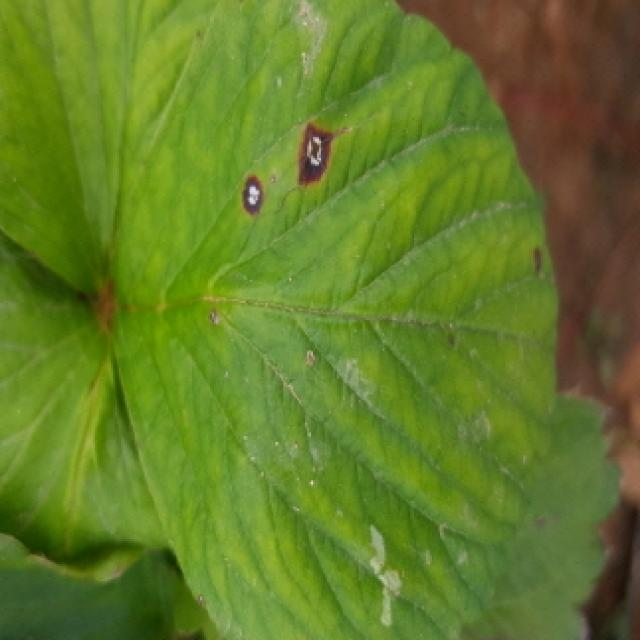Leaf Spot: (108, 0, 561, 640), (460, 389, 623, 640)
